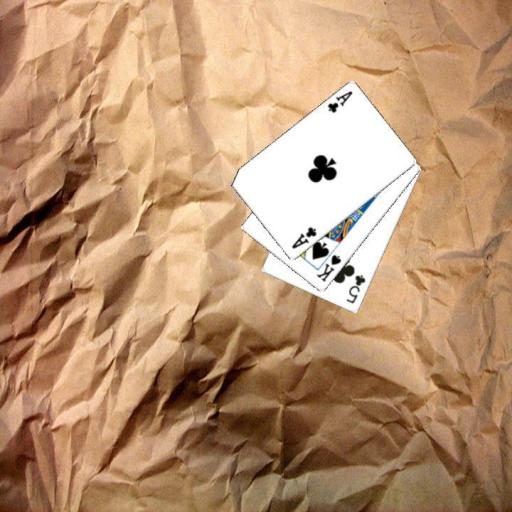5C: (343, 272, 367, 305)
AC: (324, 88, 354, 115), (288, 224, 318, 250)
KS: (314, 252, 343, 284)
